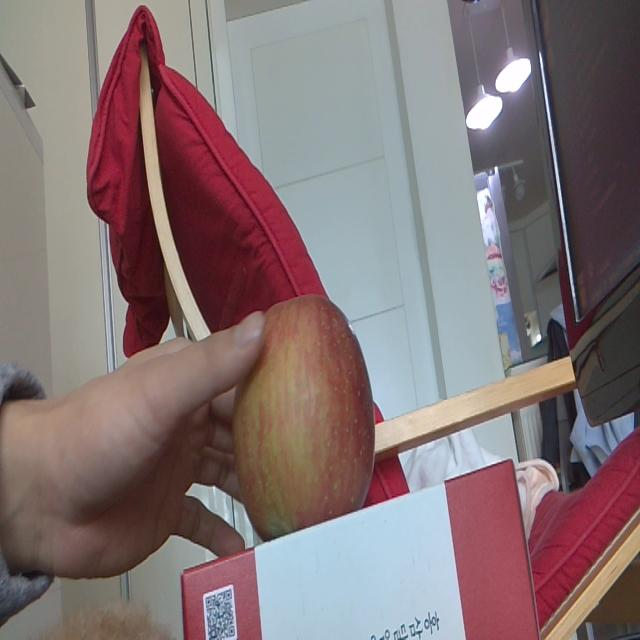apple: (233, 299, 375, 495)
